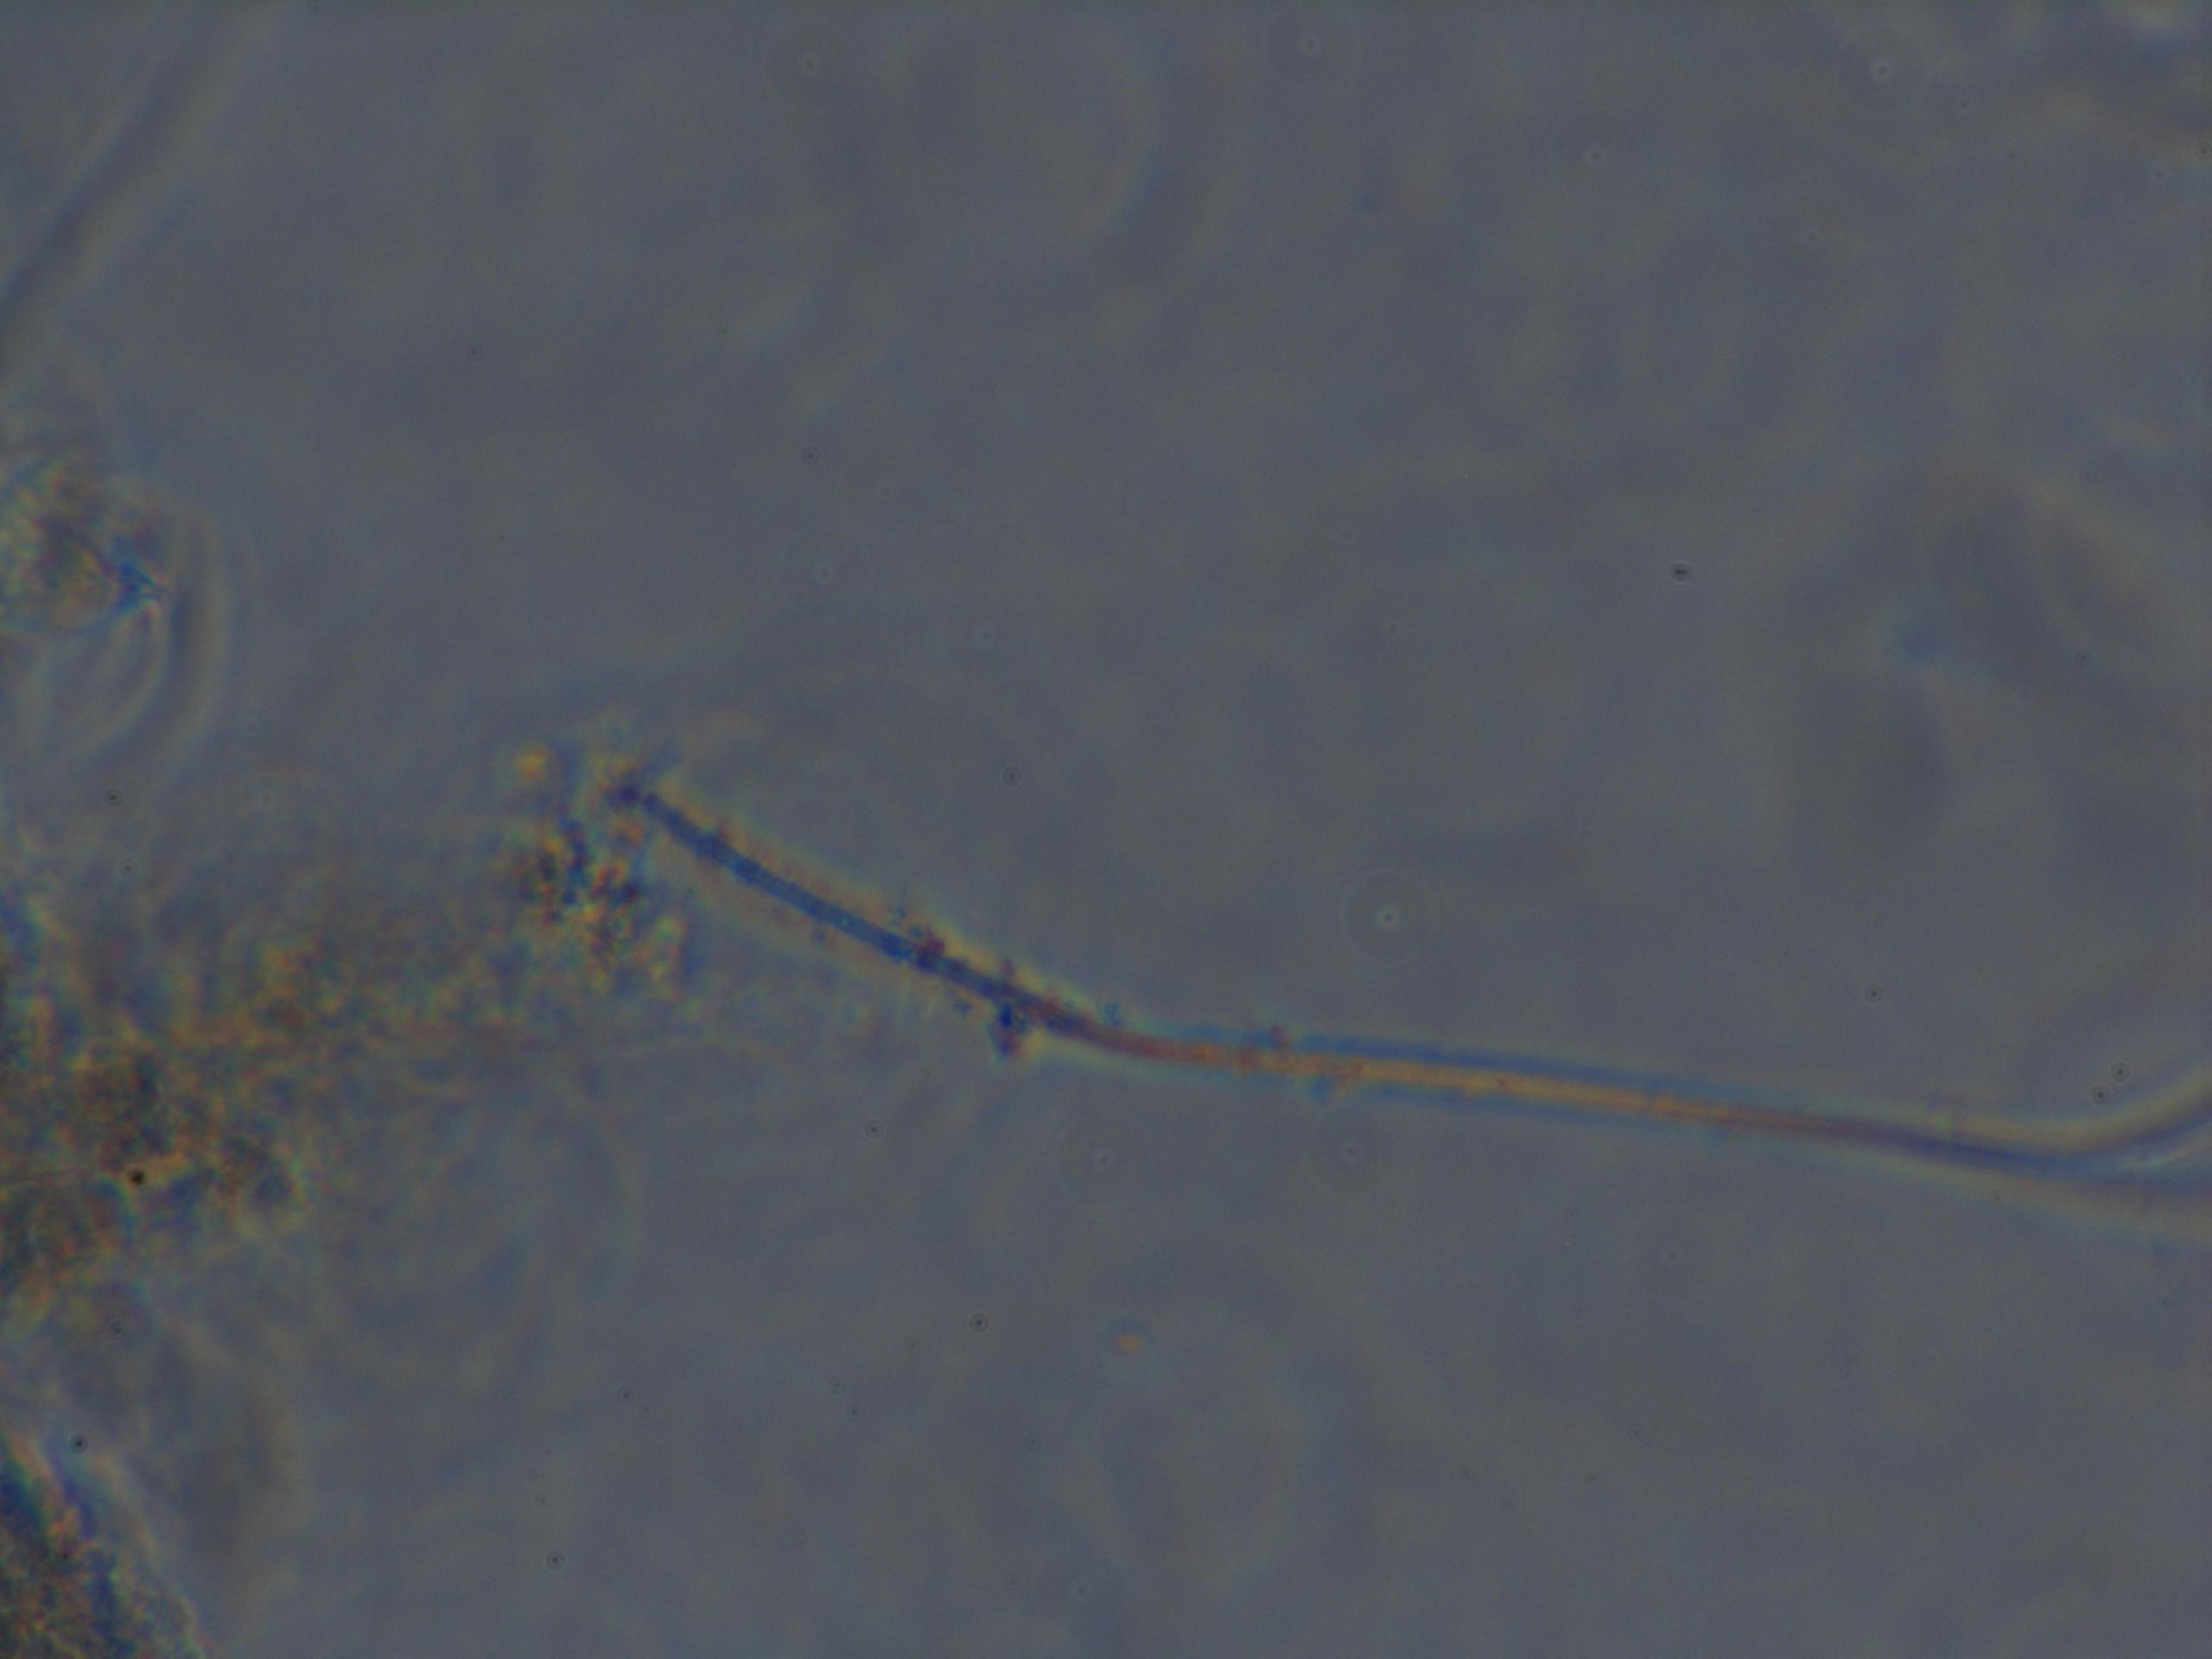filament: (622, 777, 2212, 1297)
